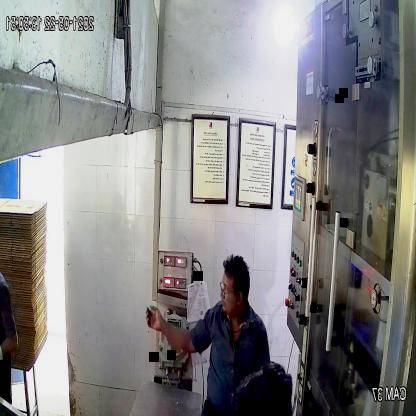goggles: (218, 280, 250, 304)
